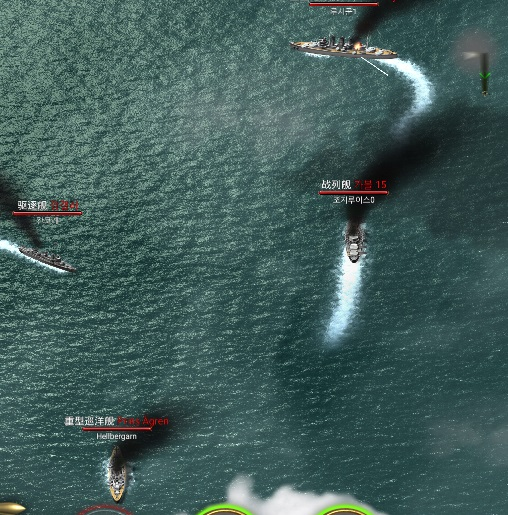ship: (290, 31, 400, 67), (18, 244, 79, 275), (102, 442, 129, 501), (342, 214, 367, 262)
